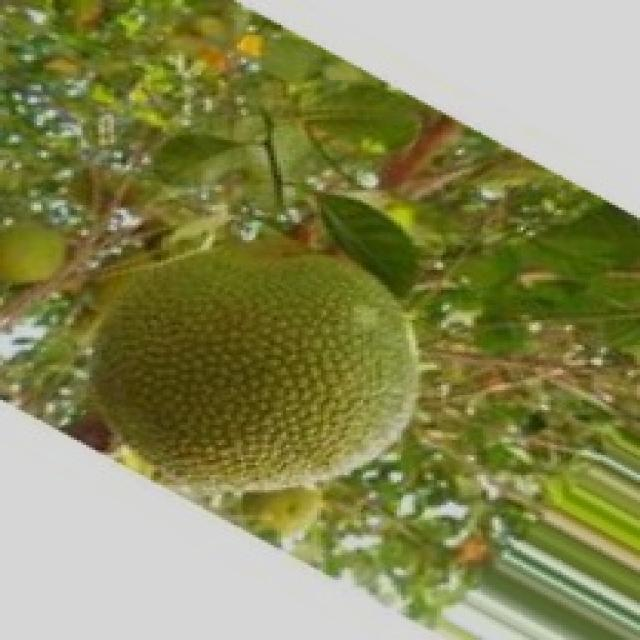Fruit: (55, 210, 443, 520)
